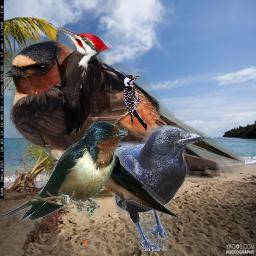Crow: (88, 125, 204, 251)
Swallow: (3, 38, 245, 182), (2, 121, 128, 220), (93, 150, 180, 219)
Woodpecker: (47, 27, 112, 135), (123, 75, 147, 131)
